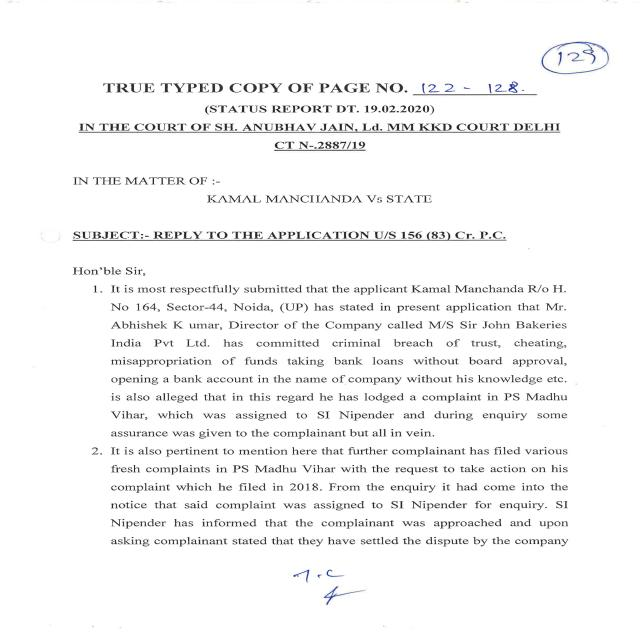page-number: (456, 0, 640, 82)
